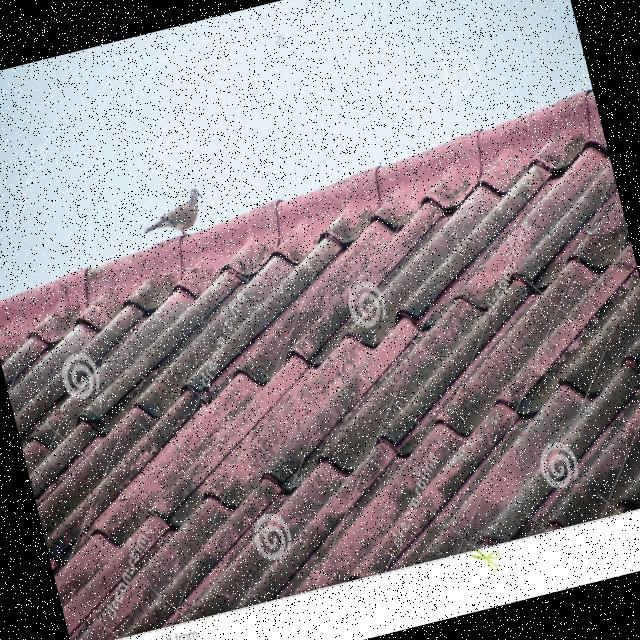bird: (134, 184, 212, 248)
